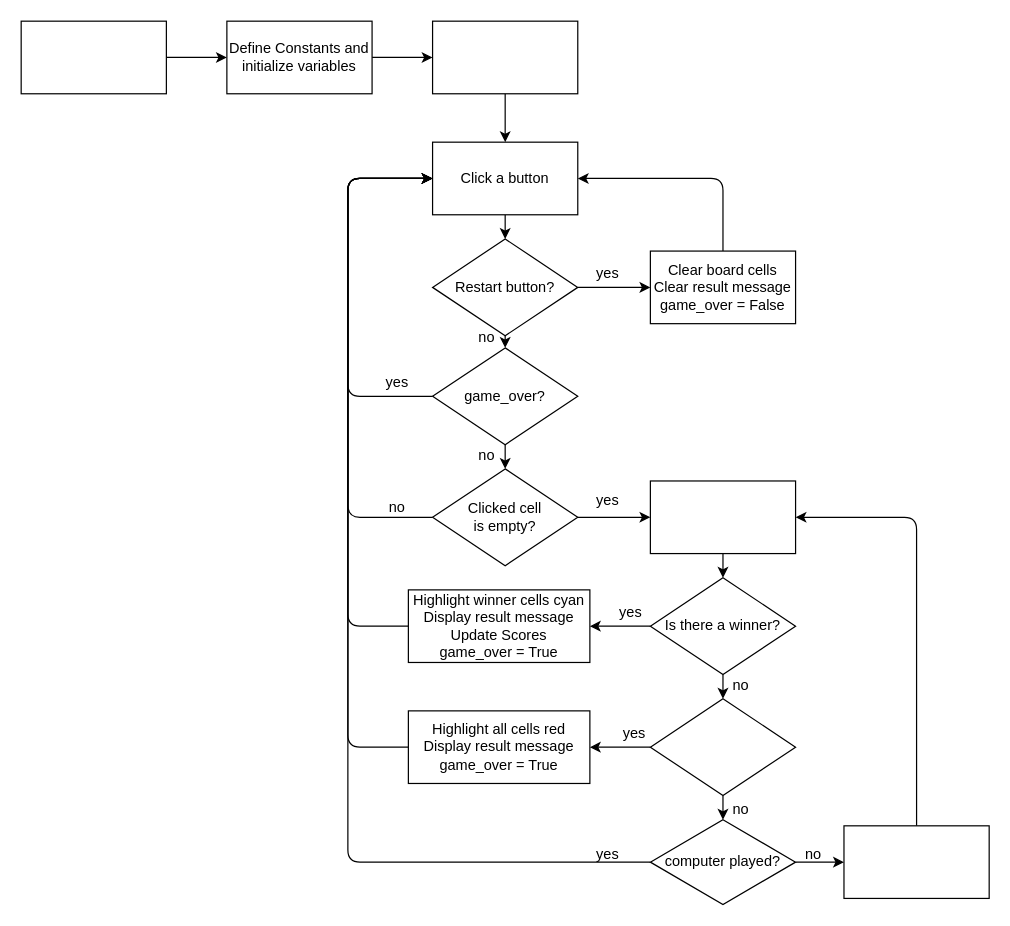
Some shapes in this 1010 by 926 pixel diagram are drawn without their labels. The box of each missing label's shape, as (x1, y1, x2, y2) in pixels:
choose random empty cell: (843, 825, 989, 898)
Display game layout (scores, restart button and board buttons): (431, 20, 578, 94)
Is it a tie?: (649, 698, 796, 796)
Start: (20, 20, 166, 94)
Update cell content: (649, 480, 796, 554)
